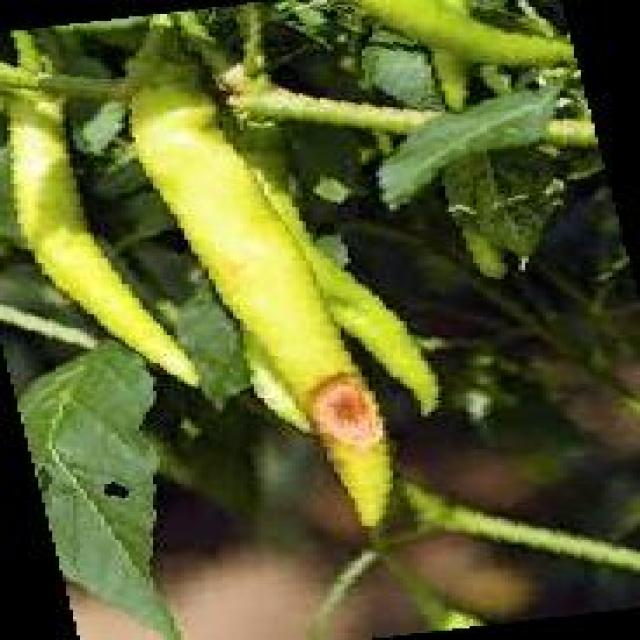Moko: (271, 347, 458, 482)
